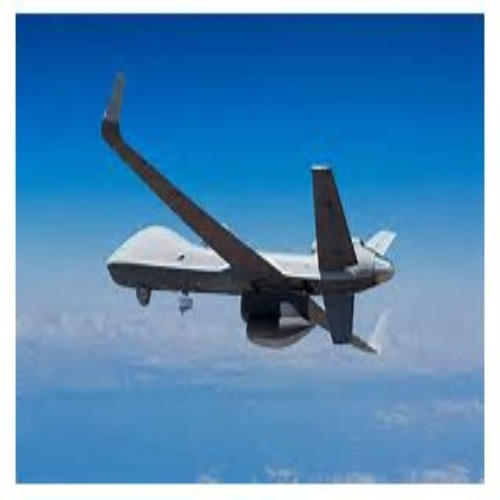uav: (98, 70, 398, 359)
